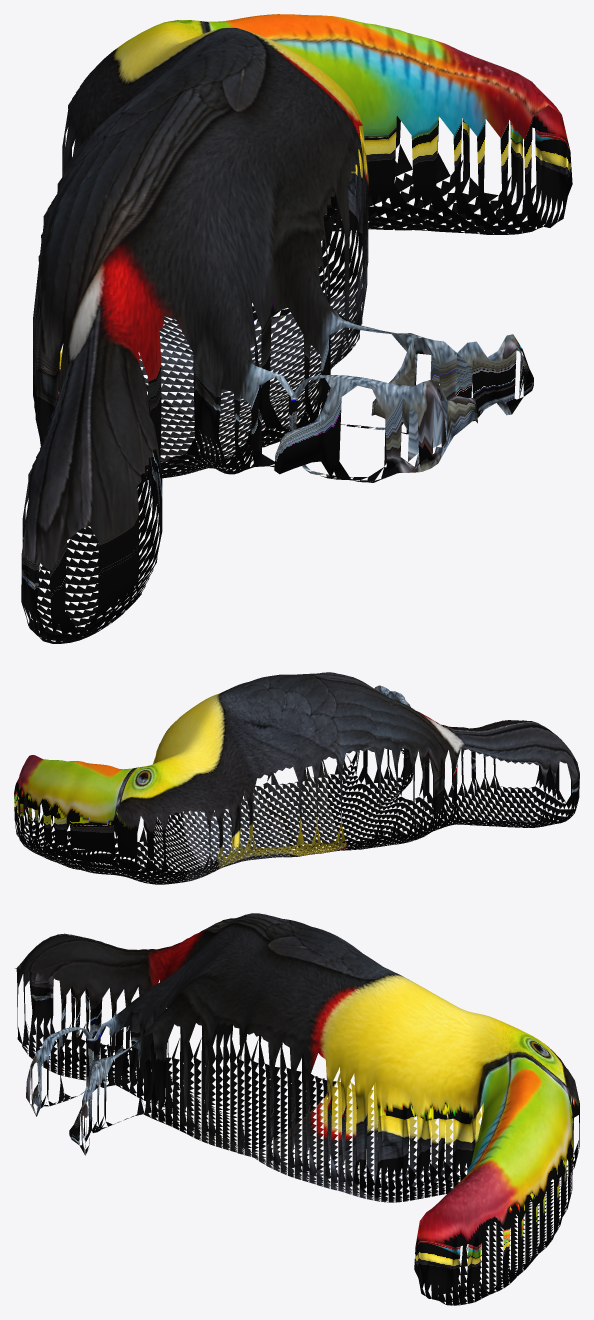
Rendered from toucan.glb.
3 renders of one model, top to bottom at view 1: azimuth 30°, elevation 25°; view 2: azimuth 150°, elevation 25°; view 3: azimuth 270°, elevation 25°, orthographic. The views are drawn at different scales.
Visible parts, largest first — view 1: toucan_obj; view 2: toucan_obj; view 3: toucan_obj.
Boxes of the visible parts, x1,y1,x2,y2 form: toucan_obj: (21,14,572,643); toucan_obj: (14,672,579,884); toucan_obj: (15,913,579,1305).
Size of the model in its own units: 1.86 by 0.7877 by 1.64.
1 material, 1 textured.
